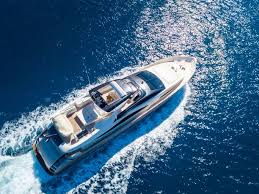boat: (32, 54, 197, 176)
